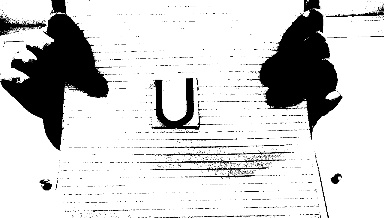U: (149, 79, 199, 126)
